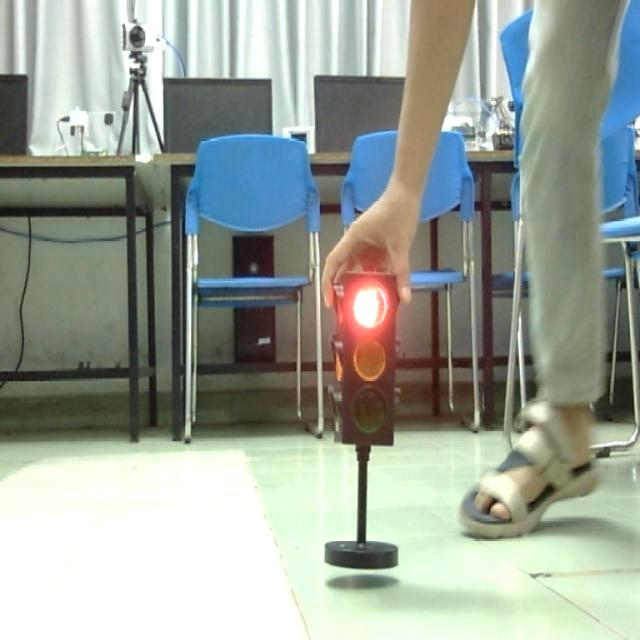Red: (330, 264, 406, 450)
